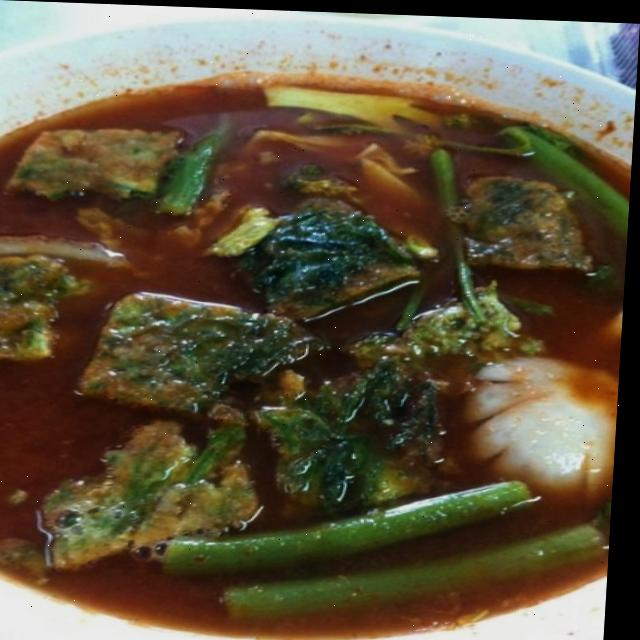汤锅炖物: (0, 55, 637, 635)
